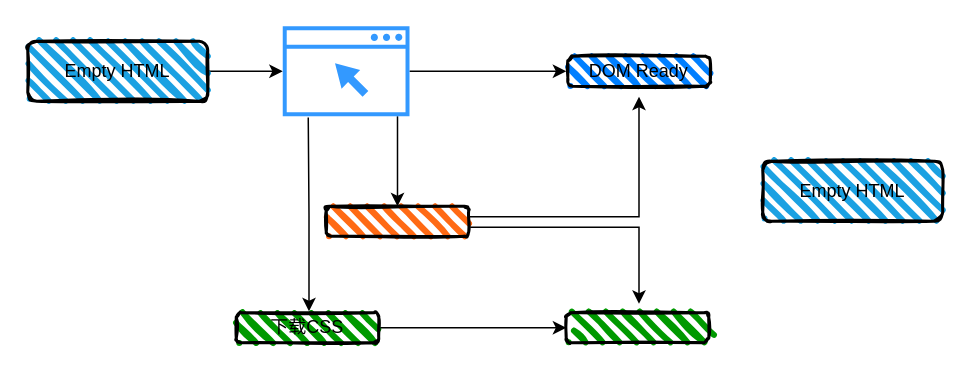
The diagram is 969 pixels wide and 369 high, and some of its shapes have lost their labels. The shapes that lost their labels are listed below. From the top down, each one's centre as x and y in pixels, then its label:
At [397,220]: "下载JS".
At [637,327]: "CSSOM Ready".
